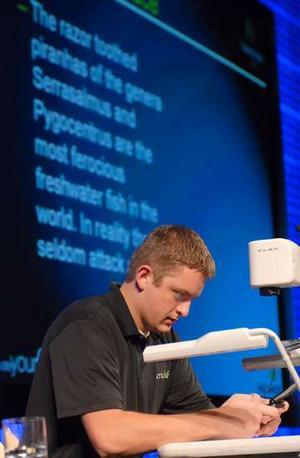person: (26, 226, 290, 458)
